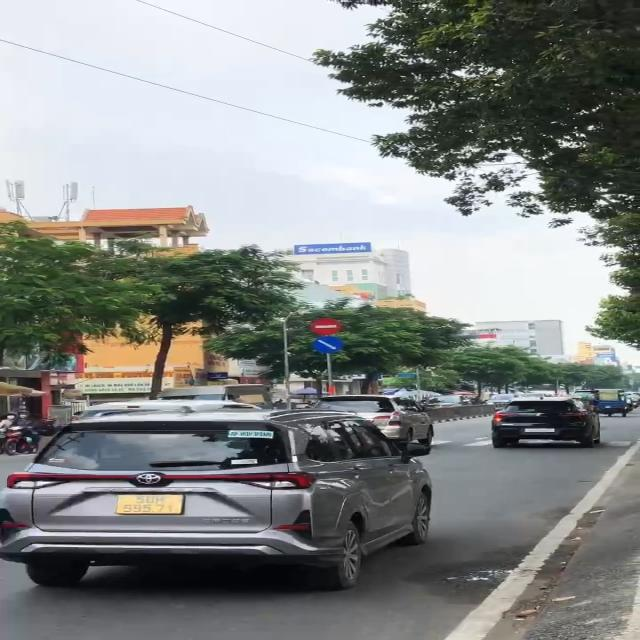Bien bao cam di nguoc chieu: (306, 318, 346, 336)
Bien bao huong phai di vong chuong ngai vat: (309, 336, 357, 360)
